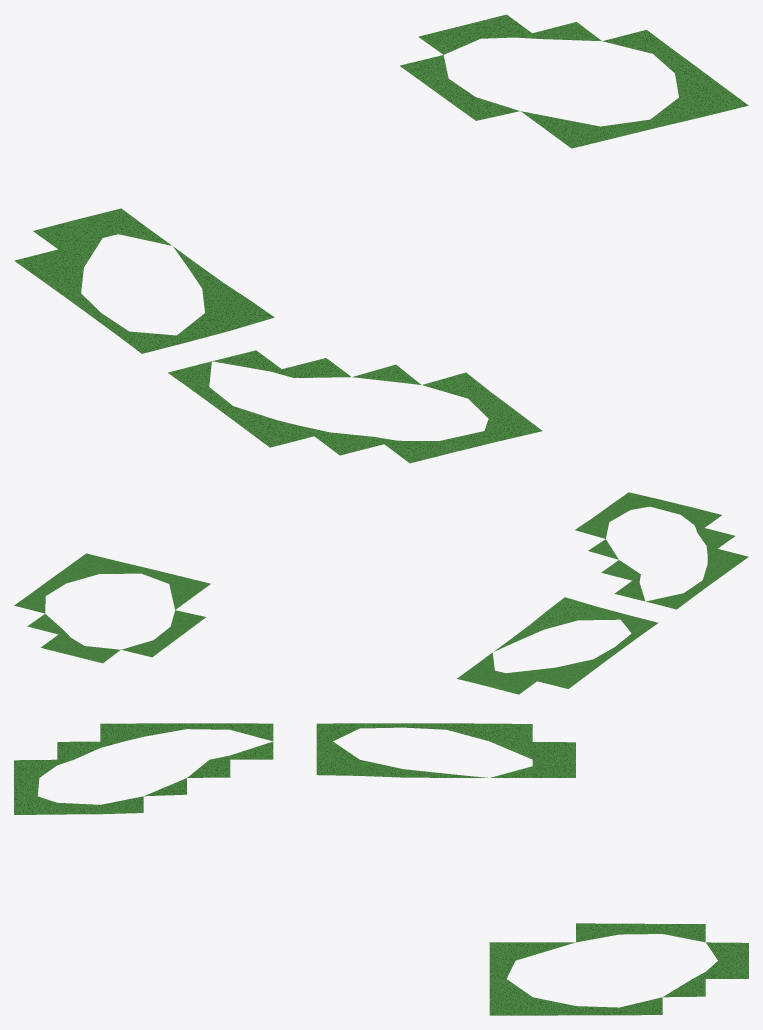
The model's file is rock_kicking_park_just_lake_border.glb.
3 views of the same model, one above another, from view 1: azimuth 30°, elevation 25°; view 2: azimuth 150°, elevation 25°; view 3: azimuth 270°, elevation 25° (orthographic). The views are drawn at different scales.
Visible parts, largest first — view 1: GroundIntactLakeBorder; view 2: GroundIntactLakeBorder; view 3: GroundIntactLakeBorder.
Boxes of the visible parts, bbox=[...] form: GroundIntactLakeBorder: bbox=[14, 14, 748, 463]; GroundIntactLakeBorder: bbox=[14, 492, 748, 694]; GroundIntactLakeBorder: bbox=[14, 723, 748, 1015].
Size of the model in its own units: 381 by 2.25 by 405.
Materials: 1 (1 with a texture image).
